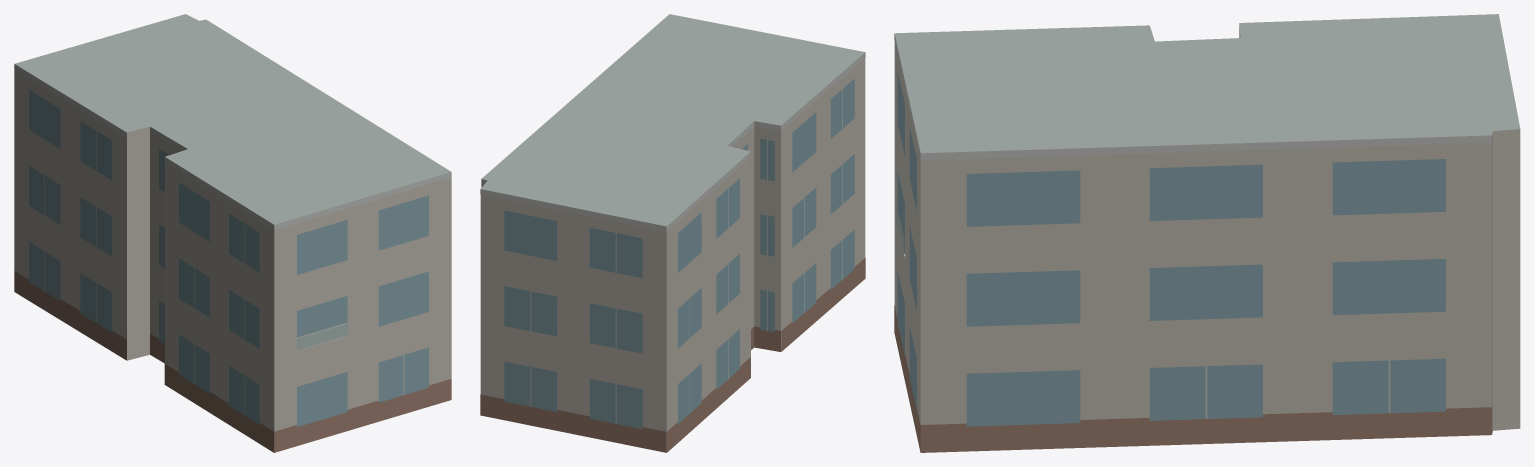
Rendered from survey-upis-32967033.glb.
3 views of the same model, side by side, from view 1: azimuth 30°, elevation 25°; view 2: azimuth 150°, elevation 25°; view 3: azimuth 270°, elevation 25° (orthographic). The views are drawn at different scales.
Parts seen in each view (by area): view 1: survey-upis-32967033.tmp; view 2: survey-upis-32967033.tmp; view 3: survey-upis-32967033.tmp.
Boxes of the visible parts, box(x1,y1,x2,y2) form: survey-upis-32967033.tmp: box(14, 14, 451, 452); survey-upis-32967033.tmp: box(480, 14, 865, 452); survey-upis-32967033.tmp: box(894, 14, 1520, 452).
Size of the model in its own units: 10.18 by 10.2 by 19.32.
